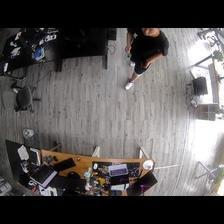normal: (124, 28, 169, 91)
